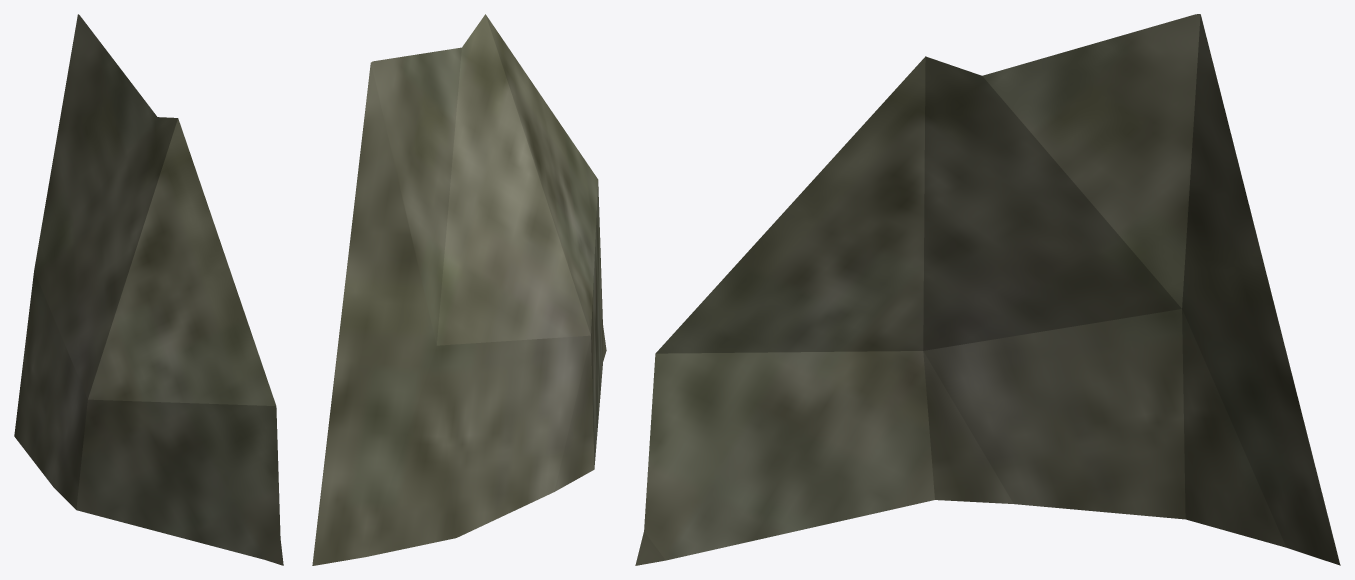
3 views of the same model, side by side, from view 1: azimuth 30°, elevation 25°; view 2: azimuth 150°, elevation 25°; view 3: azimuth 270°, elevation 25° (orthographic). The views are drawn at different scales.
Bounding box in the file's own units: 0.1837 × 0.7165 × 0.8297.
1 material, 1 textured.
